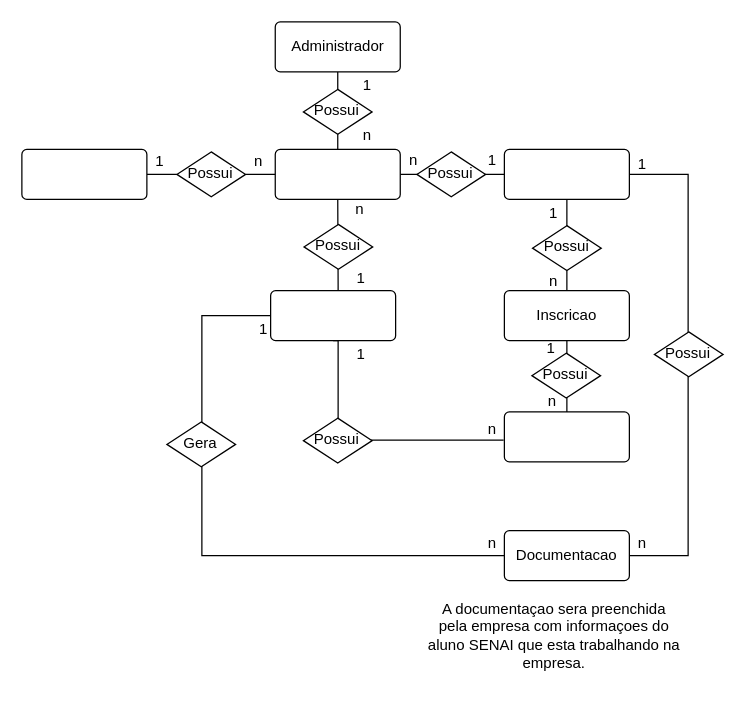
Image size: 745x708. Some labels were removed from this diagram. Each missing label, with the box of its shape:
Candidatos: (503, 148, 629, 199)
Empresa: (269, 289, 396, 341)
TipoUsuario: (21, 148, 147, 199)
Usuario: (274, 148, 400, 199)
Vagas: (503, 411, 629, 462)
